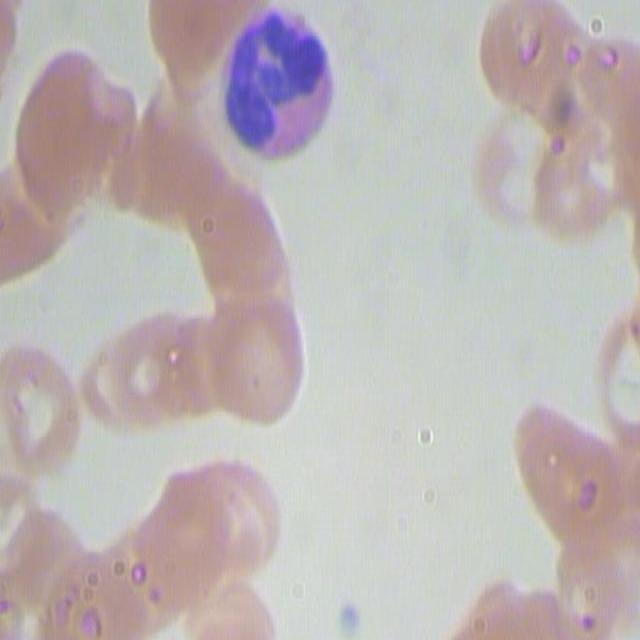RBC: (6, 42, 129, 284), (126, 438, 281, 618), (187, 211, 310, 433), (515, 396, 639, 534), (73, 309, 203, 439), (477, 0, 591, 122), (531, 125, 637, 242), (132, 110, 245, 219), (0, 332, 77, 474), (5, 504, 93, 621), (462, 578, 613, 640), (54, 548, 143, 638), (149, 0, 240, 88), (594, 295, 640, 464)
WBC: (225, 9, 340, 157)
